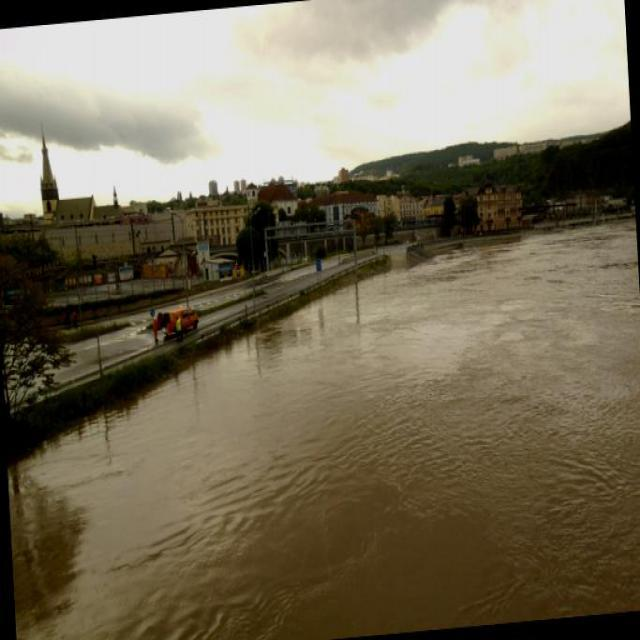flood: (0, 224, 639, 639)
